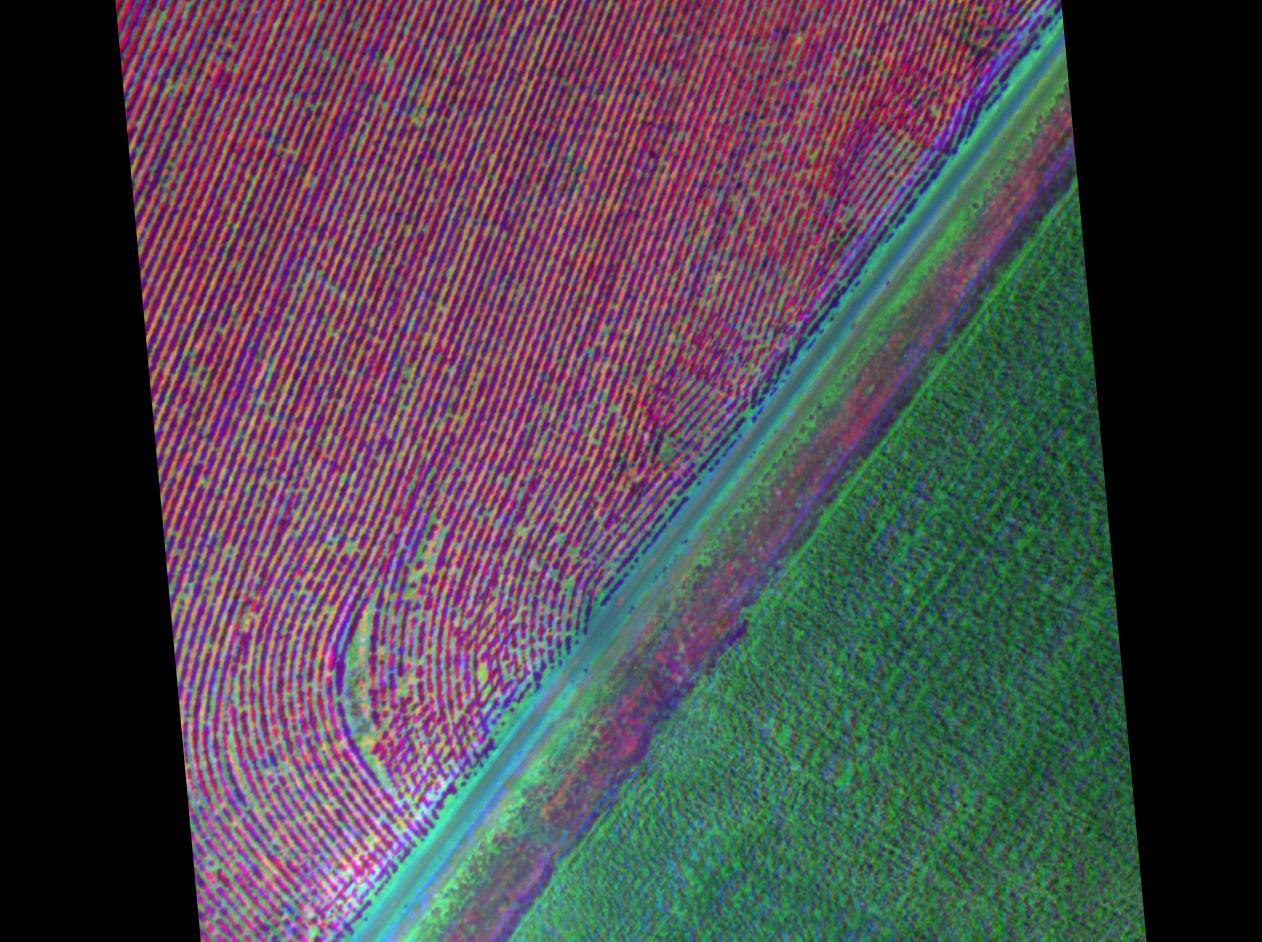dc: (308, 618, 405, 769), (196, 755, 291, 839), (296, 485, 384, 575), (403, 503, 472, 596), (158, 548, 227, 622)
